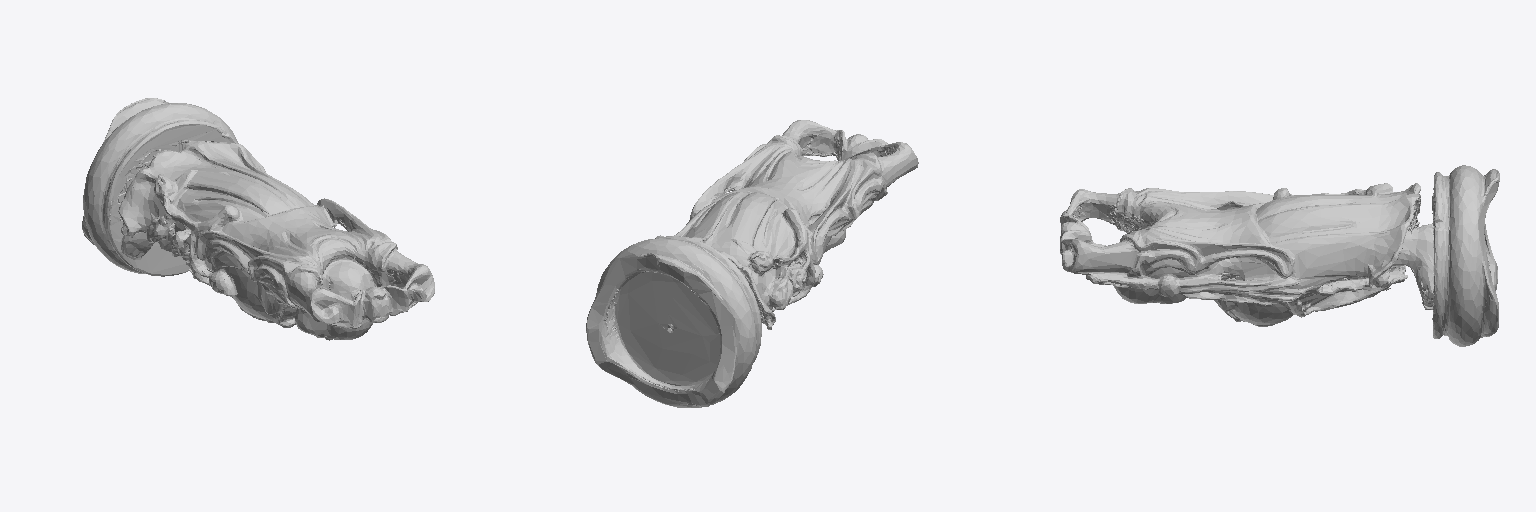
The model's file is buddha.obj.
3 renders of one model, left to right at view 1: azimuth 30°, elevation 25°; view 2: azimuth 150°, elevation 25°; view 3: azimuth 270°, elevation 25°, orthographic.
Parts seen in each view (by area): view 1: buddha; view 2: buddha; view 3: buddha.
Part boxes in pixels (x1,y1,x2,y2): buddha: (82,98,434,340); buddha: (586,120,918,407); buddha: (1060,165,1499,346).
Bounding box in the file's own units: 206 × 206 × 500.